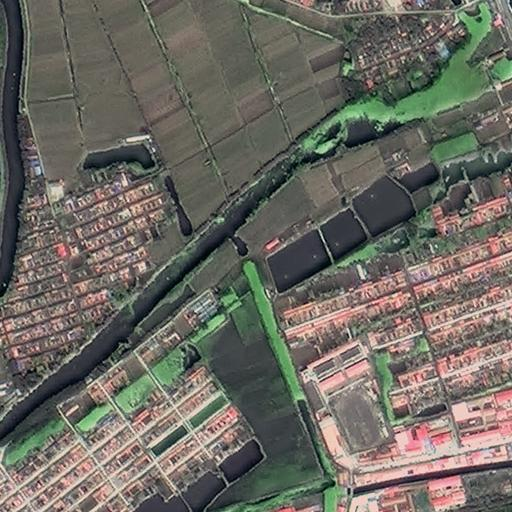school: (300, 340, 388, 462)
